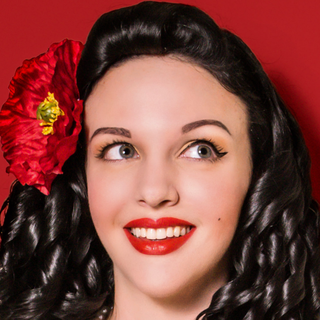eye: (177, 136, 225, 164), (98, 140, 141, 164)
